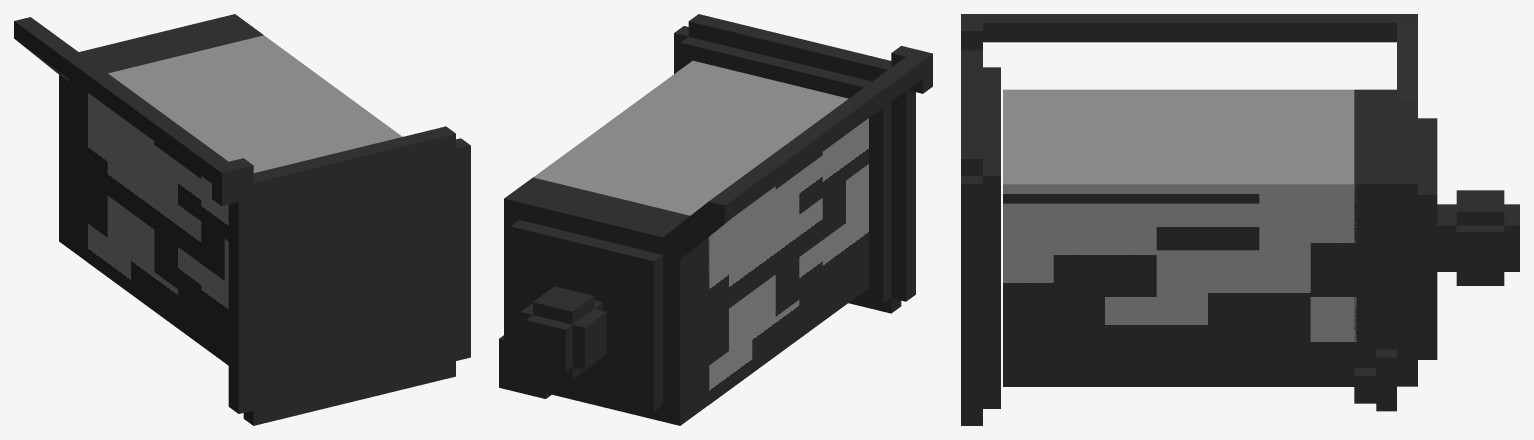
The model's file is Breakable_FrenchPress.fbx.
The picture shows the model from 3 angles, left to right: view 1: azimuth 30°, elevation 25°; view 2: azimuth 150°, elevation 25°; view 3: azimuth 270°, elevation 25°; orthographic projection. The views are drawn at different scales.
Visible parts, largest first — view 1: FrenchPress_B, FrenchPress_A, Glass_30, Glass_20, Glass_23, Glass_21, Glass_26, Glass_25, Glass_24, Glass_31, Glass_29, Glass_10 (+10 smaller); view 2: FrenchPress_A, FrenchPress_B, Glass_30, Glass_21, Glass_20, Glass_25, Glass_23, Glass_24, Glass_26, Glass_31, Glass_29, Glass_7 (+10 smaller); view 3: FrenchPress_A, FrenchPress_B, Glass_18, Glass_19, Glass_28, Glass_22, Glass_24, Glass_29, Glass_23, Glass_32, Glass_30, Glass_21 (+10 smaller).
Boxes of the visible parts, left/top/right/bottom form: FrenchPress_B: left=23, top=24, right=470, bottom=425; FrenchPress_A: left=14, top=14, right=263, bottom=262; Glass_30: left=87, top=49, right=226, bottom=237; Glass_20: left=107, top=128, right=177, bottom=288; Glass_23: left=170, top=53, right=329, bottom=117; Glass_21: left=201, top=132, right=343, bottom=280; Glass_26: left=107, top=196, right=177, bottom=328; Glass_25: left=178, top=239, right=228, bottom=365; Glass_24: left=304, top=84, right=402, bottom=160; Glass_31: left=87, top=223, right=130, bottom=293; Glass_29: left=208, top=35, right=306, bottom=70; Glass_10: left=178, top=205, right=201, bottom=263; FrenchPress_A: left=499, top=177, right=734, bottom=425; FrenchPress_B: left=674, top=14, right=932, bottom=313; Glass_30: left=590, top=162, right=775, bottom=364; Glass_21: left=703, top=84, right=868, bottom=239; Glass_20: left=729, top=173, right=799, bottom=316; Glass_25: left=799, top=164, right=868, bottom=338; Glass_23: left=569, top=129, right=736, bottom=186; Glass_24: left=600, top=60, right=789, bottom=132; Glass_26: left=729, top=275, right=799, bottom=372; Glass_31: left=709, top=334, right=752, bottom=404; Glass_29: left=533, top=146, right=608, bottom=190; Glass_7: left=799, top=155, right=822, bottom=214; FrenchPress_A: left=1354, top=14, right=1519, bottom=411; FrenchPress_B: left=961, top=14, right=1396, bottom=425; Glass_18: left=1105, top=250, right=1259, bottom=386; Glass_19: left=1053, top=203, right=1156, bottom=343; Glass_28: left=1208, top=203, right=1310, bottom=343; Glass_22: left=1003, top=203, right=1104, bottom=386; Glass_24: left=1003, top=132, right=1207, bottom=203; Glass_29: left=1259, top=154, right=1356, bottom=296; Glass_23: left=1208, top=110, right=1310, bottom=203; Glass_32: left=1259, top=297, right=1356, bottom=386; Glass_30: left=1208, top=89, right=1354, bottom=153; Glass_21: left=1003, top=89, right=1104, bottom=153.
Size of the model in its own units: 246 by 246 by 435.
